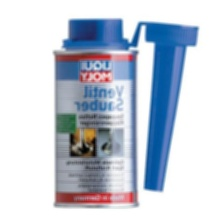cleaning_solution: (48, 18, 143, 211)
